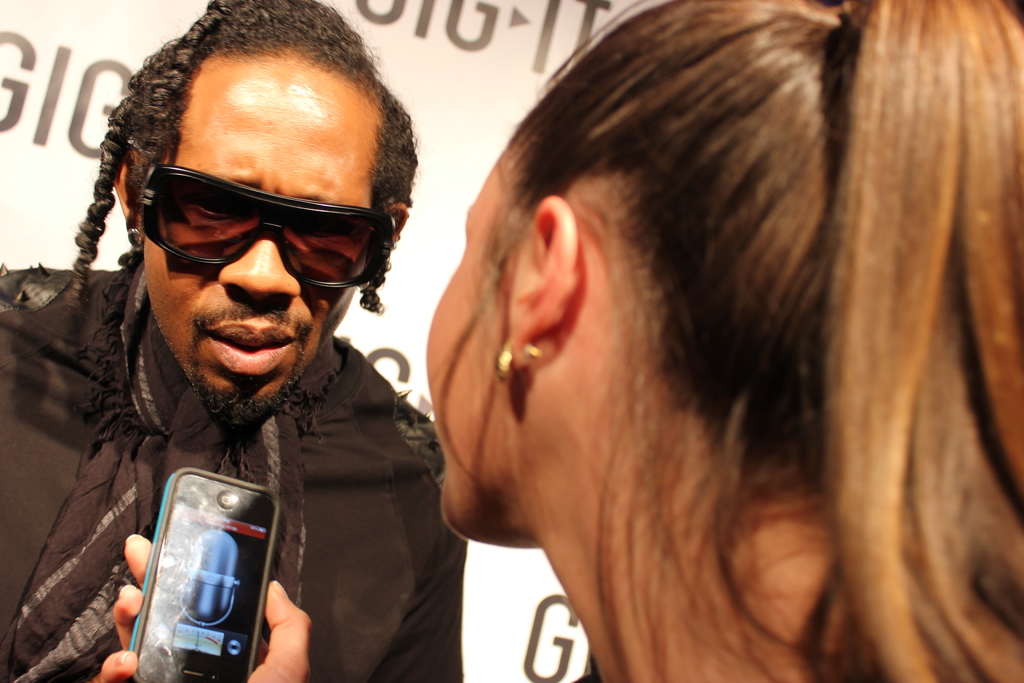Mobile-phone: (118, 466, 283, 683)
